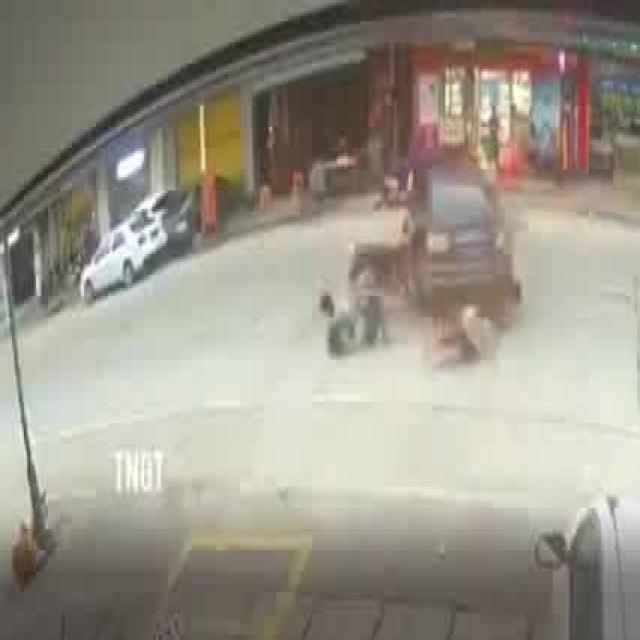multiple_accident: (316, 140, 526, 381)
normal: (74, 179, 200, 307)
